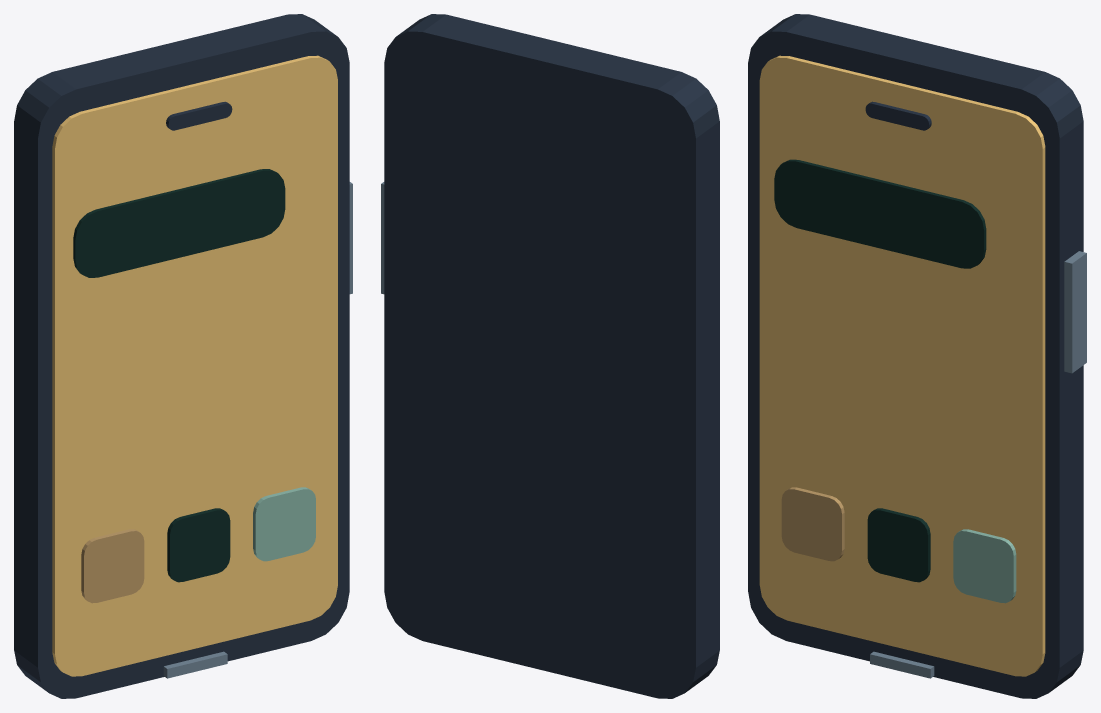
File: phone.glb
3 renders of one model, left to right at view 1: azimuth 30°, elevation 25°; view 2: azimuth 150°, elevation 25°; view 3: azimuth 330°, elevation 25°, orthographic.
Visible parts, largest first — view 1: screen, case, widget, app 1, app 0, app 2, earpiece, port; view 2: case; view 3: screen, case, widget, app 0, app 1, app 2, side switch, earpiece, port.
Boxes of the visible parts, left/top/right/bottom form: screen: left=52, top=55, right=337, bottom=676; case: left=14, top=14, right=349, bottom=698; widget: left=73, top=169, right=285, bottom=277; app 1: left=167, top=508, right=230, bottom=582; app 0: left=81, top=529, right=144, bottom=603; app 2: left=253, top=487, right=315, bottom=561; earpiece: left=166, top=101, right=232, bottom=130; port: left=163, top=651, right=227, bottom=678; case: left=384, top=14, right=719, bottom=698; screen: left=759, top=55, right=1045, bottom=676; case: left=748, top=14, right=1083, bottom=698; widget: left=774, top=159, right=986, bottom=268; app 0: left=781, top=487, right=844, bottom=561; app 1: left=867, top=508, right=930, bottom=582; app 2: left=953, top=529, right=1016, bottom=603; side switch: left=1064, top=251, right=1086, bottom=373; earpiece: left=865, top=101, right=931, bottom=130; port: left=870, top=651, right=934, bottom=678.
Bounding box in the file's own units: 1 × 1.83 × 0.166.
